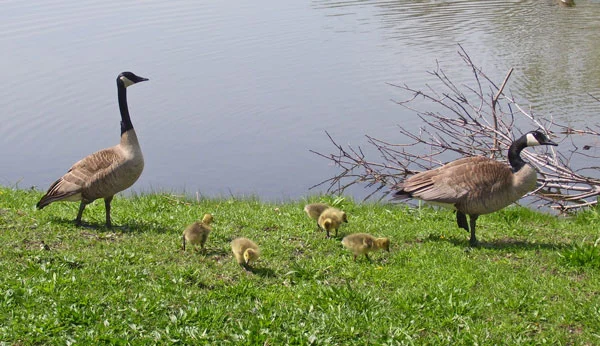goose: (393, 130, 565, 246), (35, 70, 152, 228)
